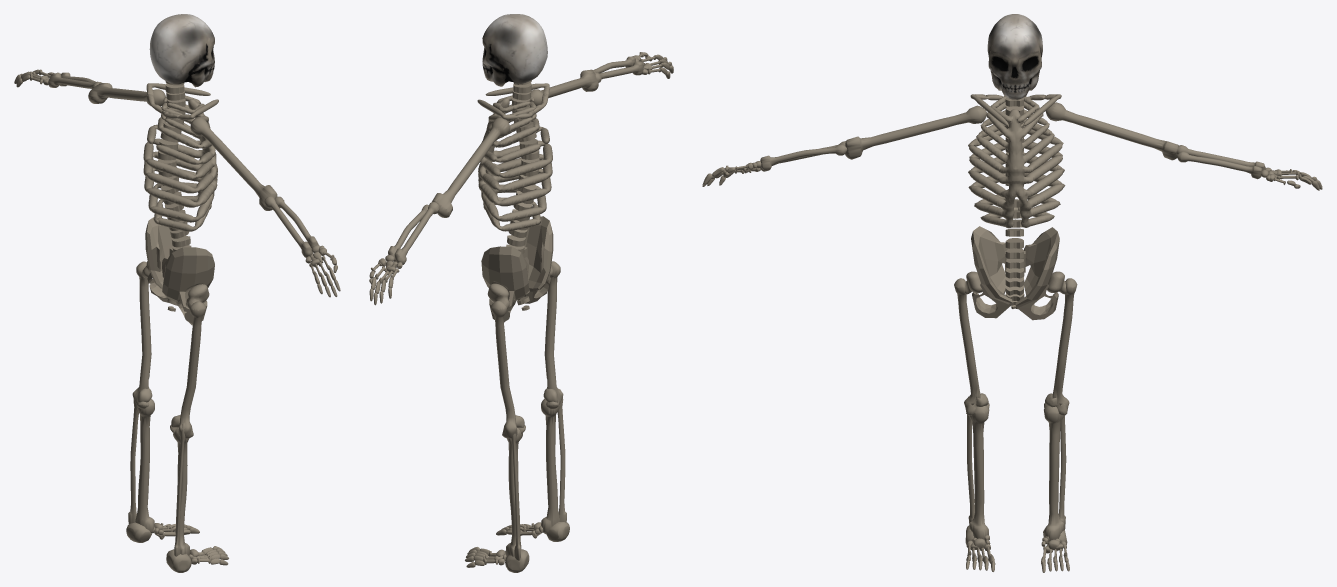
Rendered from skeleton.fbx.
3 renders of one model, left to right at view 1: azimuth 30°, elevation 25°; view 2: azimuth 150°, elevation 25°; view 3: azimuth 270°, elevation 25°, orthographic.
Visible parts, largest first — view 1: Cube.057; view 2: Cube.057; view 3: Cube.057.
Boxes of the visible parts, left/top/right/bottom form: Cube.057: left=14, top=14, right=340, bottom=572; Cube.057: left=369, top=14, right=673, bottom=572; Cube.057: left=702, top=14, right=1322, bottom=572.
Bounding box in the file's own units: 62.94 × 463 × 481.
